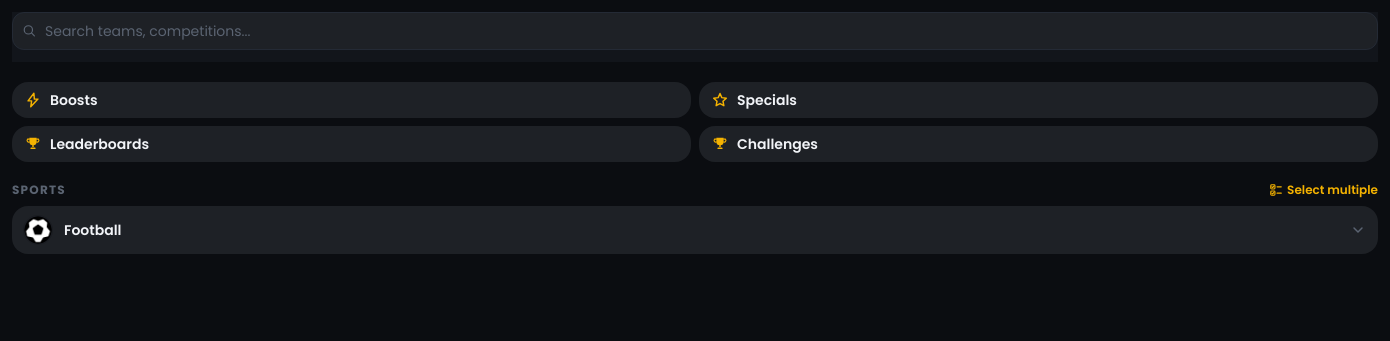
Test: Sidebar › select multiple › "Cancel" exits select-multiple mode and clears any selections
Click the button "Select multiple": click(1324, 190) [1269,182,1378,198]
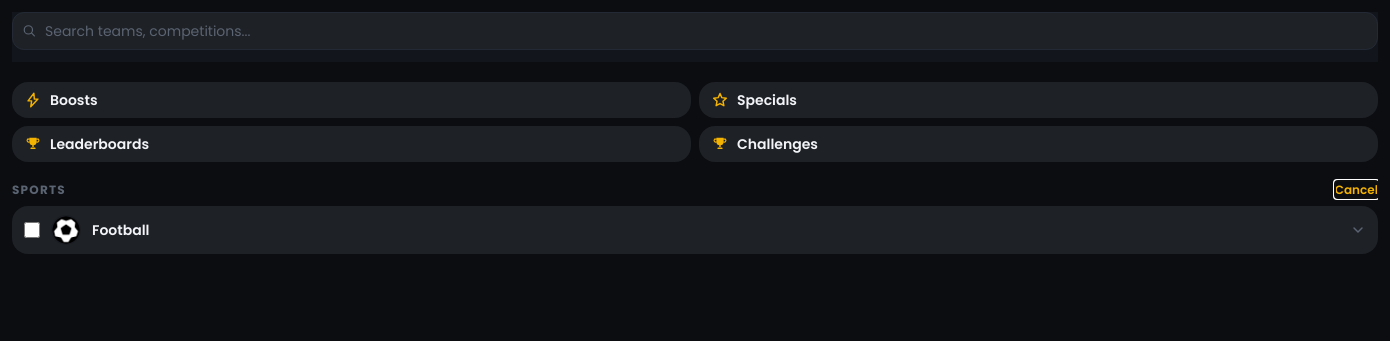
Click the checkbox named "Select Football": click(32, 230) [24,222,40,238]
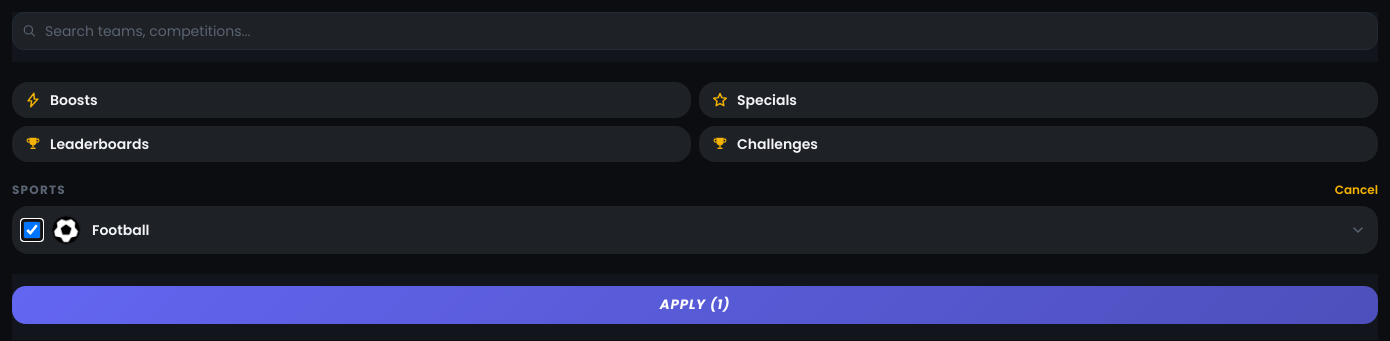
Click the button "Cancel": click(1356, 190) [1335,182,1378,198]
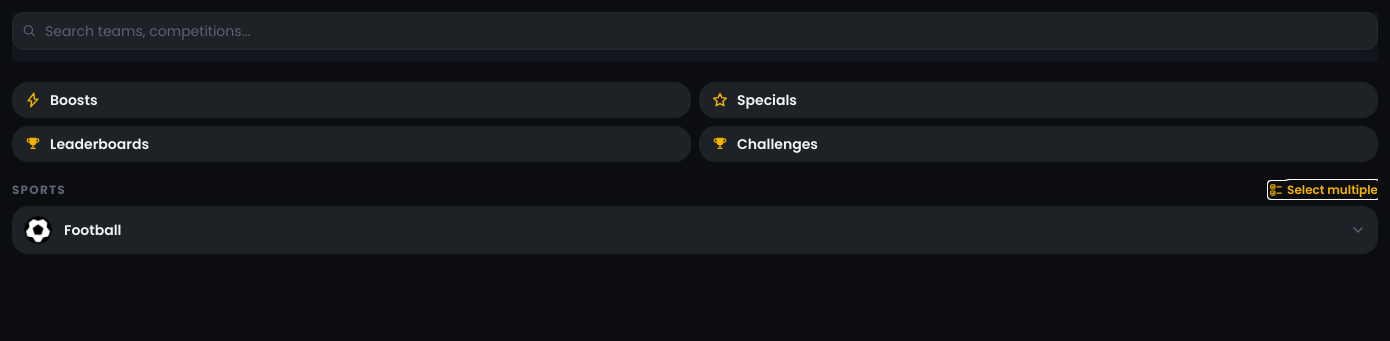
Now the checkbox is gone
Now the button "Select multiple" is shown, box [1269,182,1378,198]
